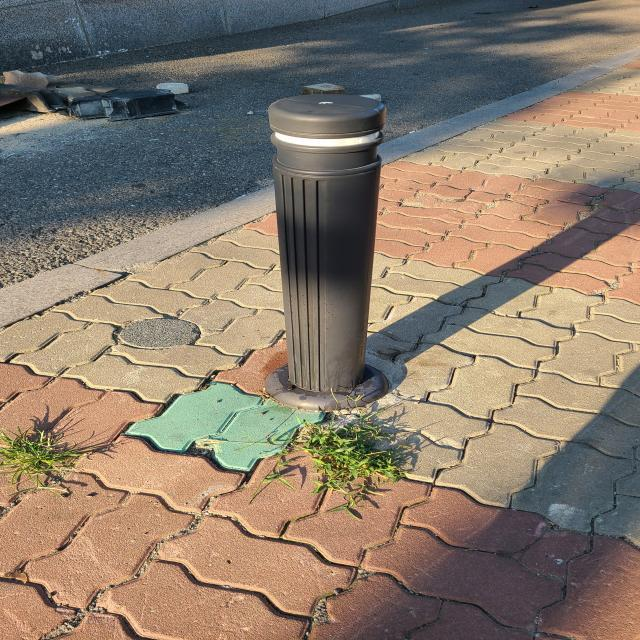pole: (264, 93, 388, 411)
